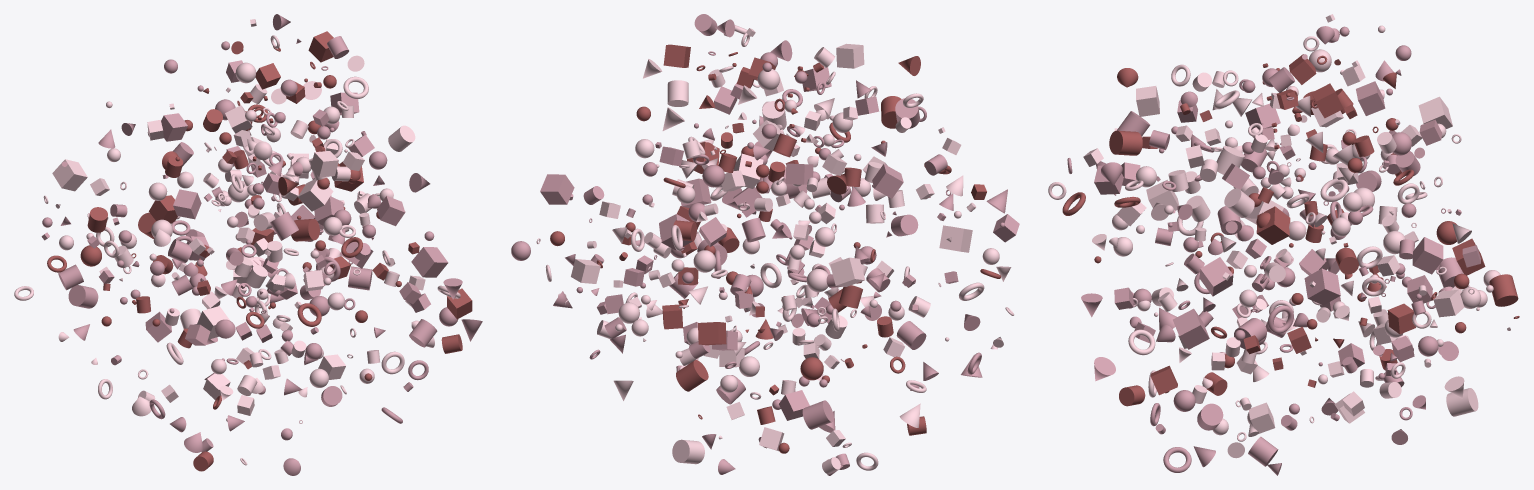
Rendered from LillyBloem.fbx.
3 renders of one model, left to right at view 1: azimuth 30°, elevation 25°; view 2: azimuth 150°, elevation 25°; view 3: azimuth 270°, elevation 25°, orthographic. The views are drawn at different scales.
Parts seen in each view (by area): view 1: 1LightRedMass.001, 1WhiteMass.001, 1Darkredmass.001, 1DarkerRedmass.001, 1LightpinkMass.001, Bloem; view 2: 1WhiteMass.001, 1LightRedMass.001, 1Darkredmass.001, 1DarkerRedmass.001, 1LightpinkMass.001, Bloem; view 3: 1LightRedMass.001, 1WhiteMass.001, 1Darkredmass.001, 1DarkerRedmass.001, 1LightpinkMass.001, Bloem.
Part boxes in pixels (left/top/right/bottom): 1LightRedMass.001: left=41, top=14, right=482, bottom=475; 1WhiteMass.001: left=14, top=19, right=460, bottom=465; 1Darkredmass.001: left=47, top=31, right=472, bottom=471; 1DarkerRedmass.001: left=55, top=35, right=379, bottom=415; 1LightpinkMass.001: left=42, top=60, right=462, bottom=431; Bloem: left=226, top=96, right=295, bottom=393; 1WhiteMass.001: left=564, top=28, right=1014, bottom=470; 1LightRedMass.001: left=511, top=14, right=1007, bottom=475; 1Darkredmass.001: left=550, top=44, right=1000, bottom=453; 1DarkerRedmass.001: left=536, top=25, right=999, bottom=474; 1LightpinkMass.001: left=540, top=52, right=1019, bottom=474; Bloem: left=776, top=66, right=843, bottom=380; 1LightRedMass.001: left=1067, top=26, right=1463, bottom=475; 1WhiteMass.001: left=1048, top=14, right=1510, bottom=458; 1Darkredmass.001: left=1062, top=54, right=1519, bottom=406; 1DarkerRedmass.001: left=1083, top=25, right=1480, bottom=427; 1LightpinkMass.001: left=1081, top=60, right=1480, bottom=466; Bloem: left=1223, top=63, right=1299, bottom=381.
Bounding box in the file's own units: 7865 × 7856 × 7283.
